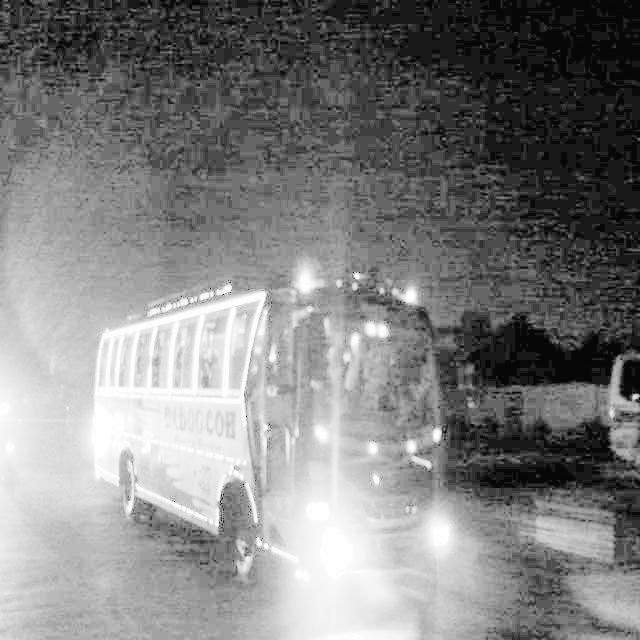Bus: (77, 250, 454, 626)
